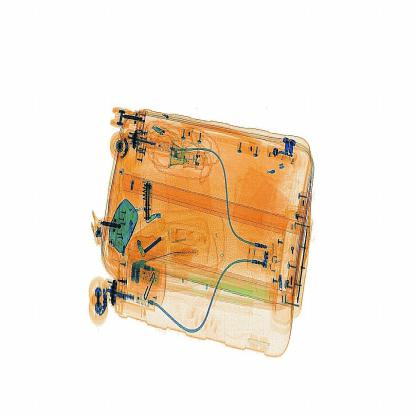scissors: (136, 172, 162, 230)
